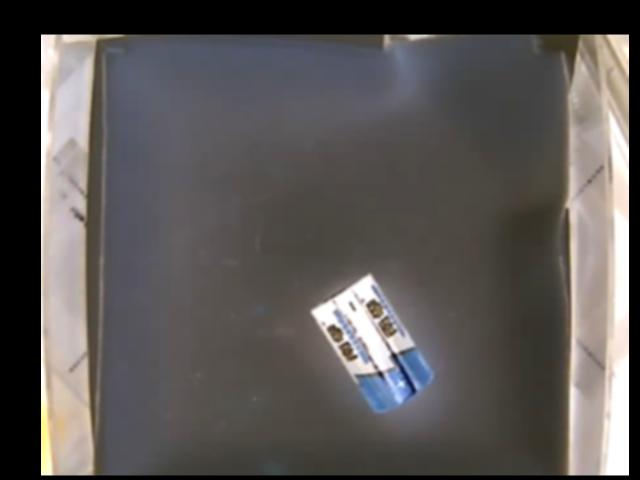Battery: (306, 272, 433, 414)
